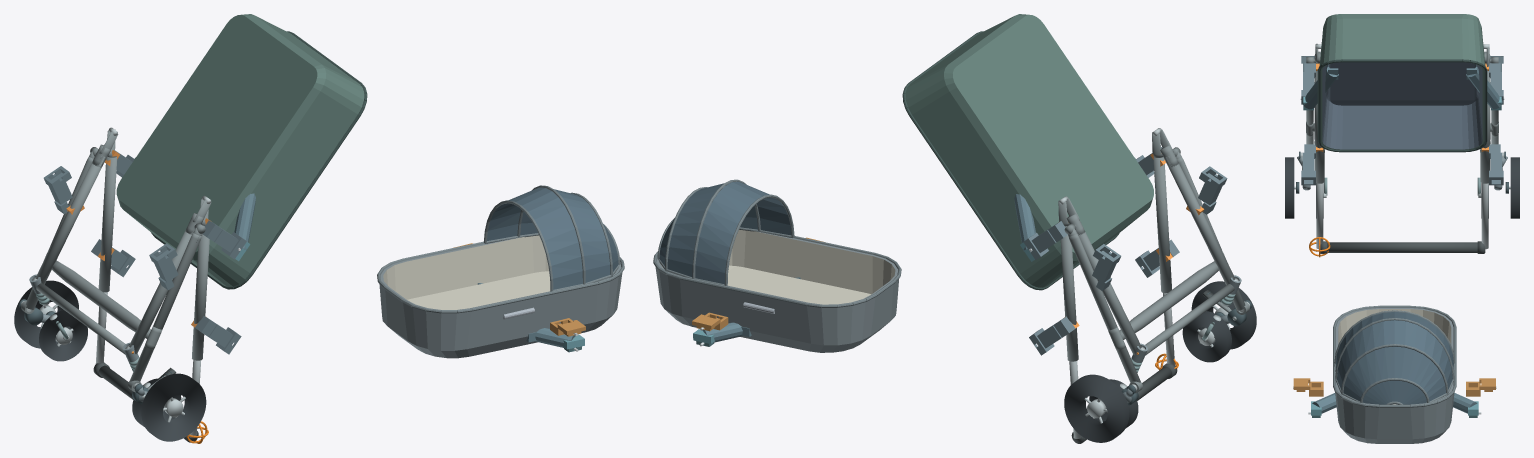
Rendered from D12_w650_state3_wheel_S.glb.
3 renders of one model, left to right at view 1: azimuth 30°, elevation 25°; view 2: azimuth 150°, elevation 25°; view 3: azimuth 270°, elevation 25°, orthographic. The views are drawn at different scales.
Parts seen in each view (by area): view 1: D12_Lower, D12_Upper, RL_tire.011, FR_tire.011, main_upper_1.012, main_lower_1.012, V46_rearbar.011, V46_rear_leg_-1.011, main_upper_-1.012, RR_tire.011, main_lower_-1.012, front_fixed_round_tube.011 (+6 smaller); view 2: D12_Lower, D12_Upper, RR_tire.011, FL_tire.011, main_upper_-1.012, main_lower_-1.012, V46_rearbar.011, V46_rear_leg_1.011, main_upper_1.012, RL_tire.011, main_lower_1.012, front_fixed_round_tube.011 (+7 smaller); view 3: D12_Lower, D12_Upper, round_handle.013, D12_Lower_Mount_M, D12_Upper_Mount_H, RL_tire.011, RR_tire.011, Universal_Cabin_Receiver_H_1, Universal_Cabin_Receiver_H_-1, main_upper_1.012, main_upper_-1.012, handle_slider_1.013 (+5 smaller).
Part boxes in pixels (x1=…): D12_Lower: x1=116, y1=14, x2=367, y2=289; D12_Upper: x1=377, y1=185, x2=624, y2=358; RL_tire.011: x1=141, y1=373, x2=206, y2=441; FR_tire.011: x1=39, y1=310, x2=87, y2=361; main_upper_1.012: x1=98, y1=156, x2=116, y2=292; main_lower_1.012: x1=35, y1=156, x2=105, y2=284; V46_rearbar.011: x1=52, y1=260, x2=150, y2=338; V46_rear_leg_-1.011: x1=130, y1=233, x2=201, y2=381; main_upper_-1.012: x1=192, y1=225, x2=209, y2=360; RR_tire.011: x1=14, y1=280, x2=78, y2=348; main_lower_-1.012: x1=129, y1=230, x2=194, y2=354; front_fixed_round_tube.011: x1=36, y1=283, x2=125, y2=354; D12_Lower: x1=902, y1=14, x2=1153, y2=290; D12_Upper: x1=653, y1=179, x2=901, y2=352; RR_tire.011: x1=1064, y1=374, x2=1129, y2=442; FL_tire.011: x1=1182, y1=311, x2=1231, y2=362; main_upper_-1.012: x1=1153, y1=157, x2=1171, y2=293; main_lower_-1.012: x1=1165, y1=157, x2=1235, y2=284; V46_rearbar.011: x1=1119, y1=261, x2=1218, y2=339; V46_rear_leg_1.011: x1=1069, y1=233, x2=1140, y2=382; main_upper_1.012: x1=1060, y1=226, x2=1078, y2=361; RL_tire.011: x1=1191, y1=281, x2=1256, y2=349; main_lower_1.012: x1=1075, y1=230, x2=1141, y2=355; front_fixed_round_tube.011: x1=1145, y1=284, x2=1234, y2=355; D12_Lower: x1=1317, y1=14, x2=1487, y2=152; D12_Upper: x1=1333, y1=305, x2=1456, y2=443; round_handle.013: x1=1327, y1=242, x2=1485, y2=252; D12_Lower_Mount_M: x1=1300, y1=65, x2=1504, y2=110; D12_Upper_Mount_H: x1=1308, y1=393, x2=1481, y2=417; RL_tire.011: x1=1285, y1=157, x2=1294, y2=218; RR_tire.011: x1=1510, y1=157, x2=1519, y2=218; Universal_Cabin_Receiver_H_1: x1=1489, y1=144, x2=1503, y2=185; Universal_Cabin_Receiver_H_-1: x1=1301, y1=144, x2=1315, y2=185; main_upper_1.012: x1=1480, y1=70, x2=1490, y2=183; main_upper_-1.012: x1=1314, y1=70, x2=1324, y2=183; handle_slider_1.013: x1=1481, y1=183, x2=1488, y2=249.
Size of the model in its own units: 1.77 by 1.07 by 0.766.
